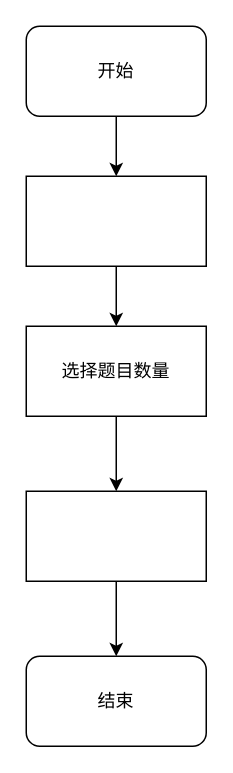
This 233x773 diagram has some shape labels left out. The shapes that lost their labels are listed below. From the top down, each one's centre as x and y in pixels, then its label:
point (115, 220): 选择题目标签
point (115, 535): 从系统拉取试卷所有题号信息
